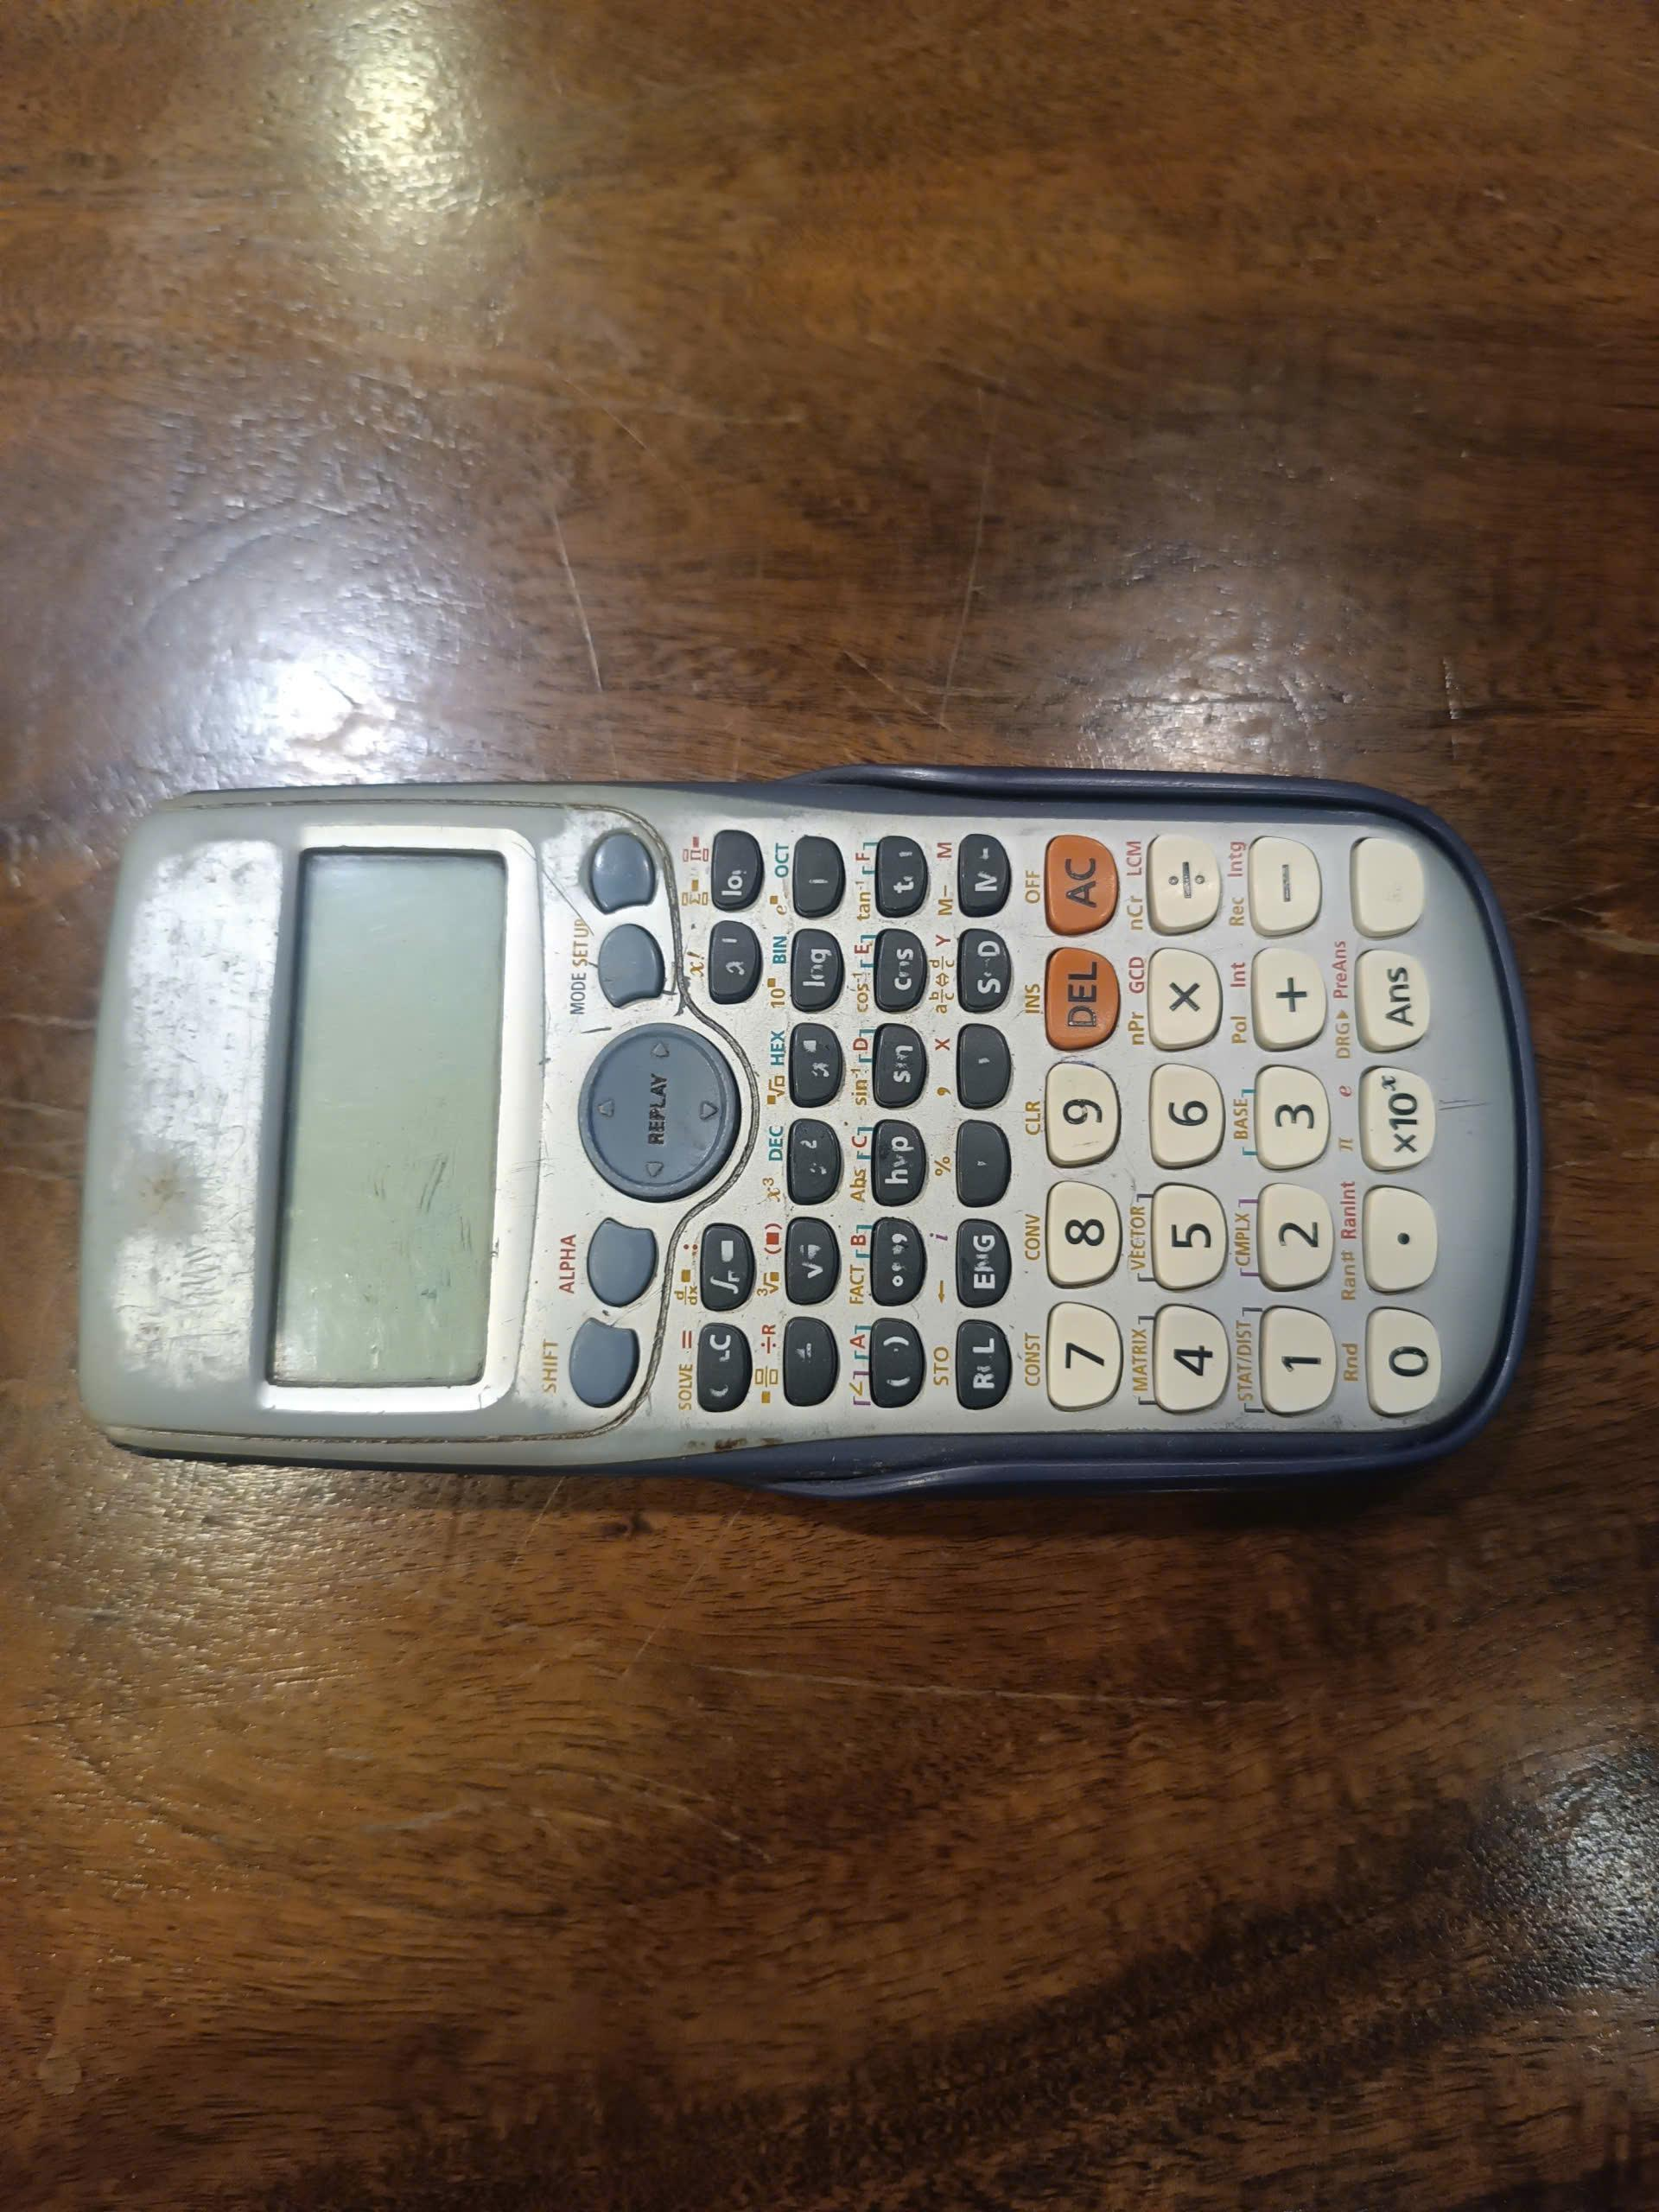Con lai: (70, 752, 1558, 1522)
